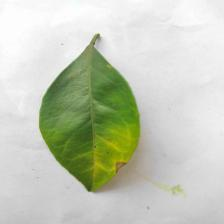black spot: (103, 155, 129, 173)
